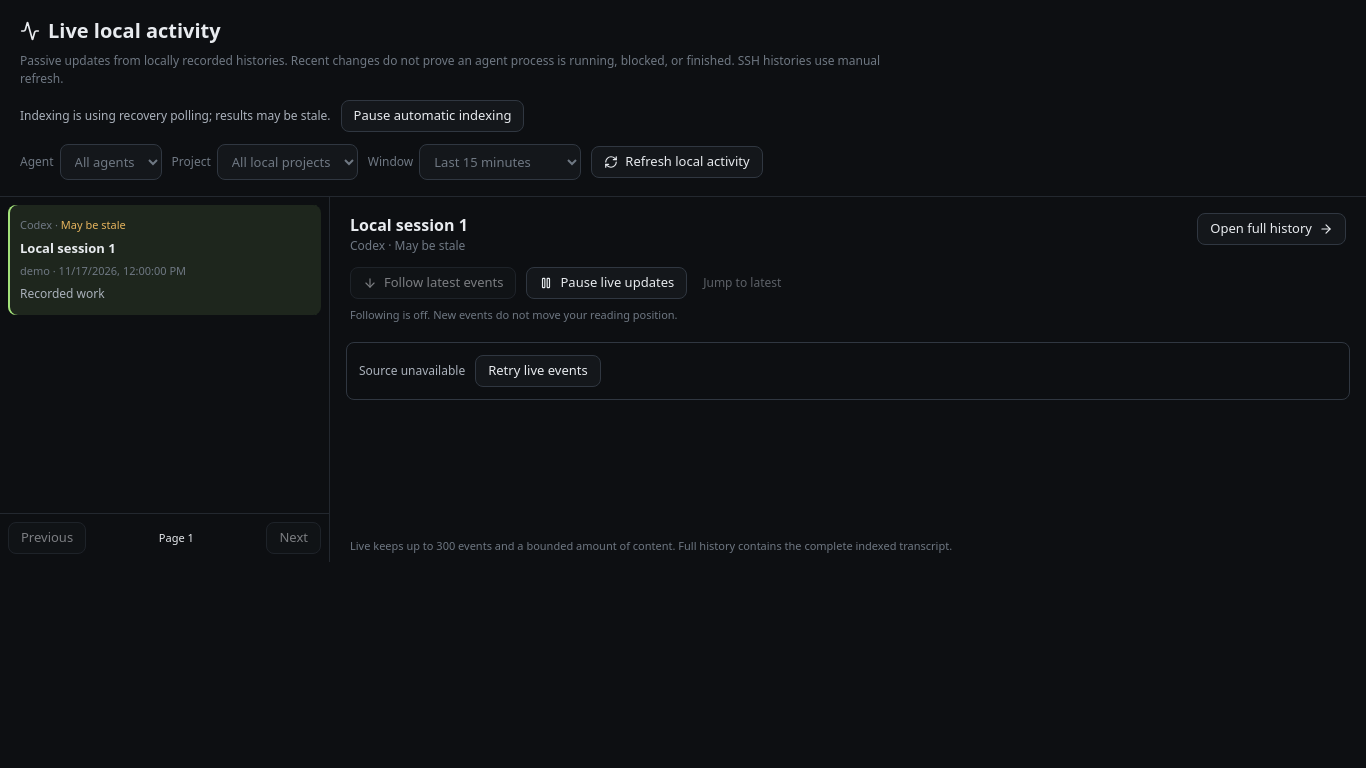
Scenario: stale health, empty activity, unavailable sources and deletion have explicit recoverable states
Check: the text "Indexing is using recovery polling; results may be stale." is shown, box [20,107,331,125]
Check: the text "May be stale" is shown, box [61,217,126,232]
Click the button "Retry live events".
click(538, 370)  # box [475,354,601,386]
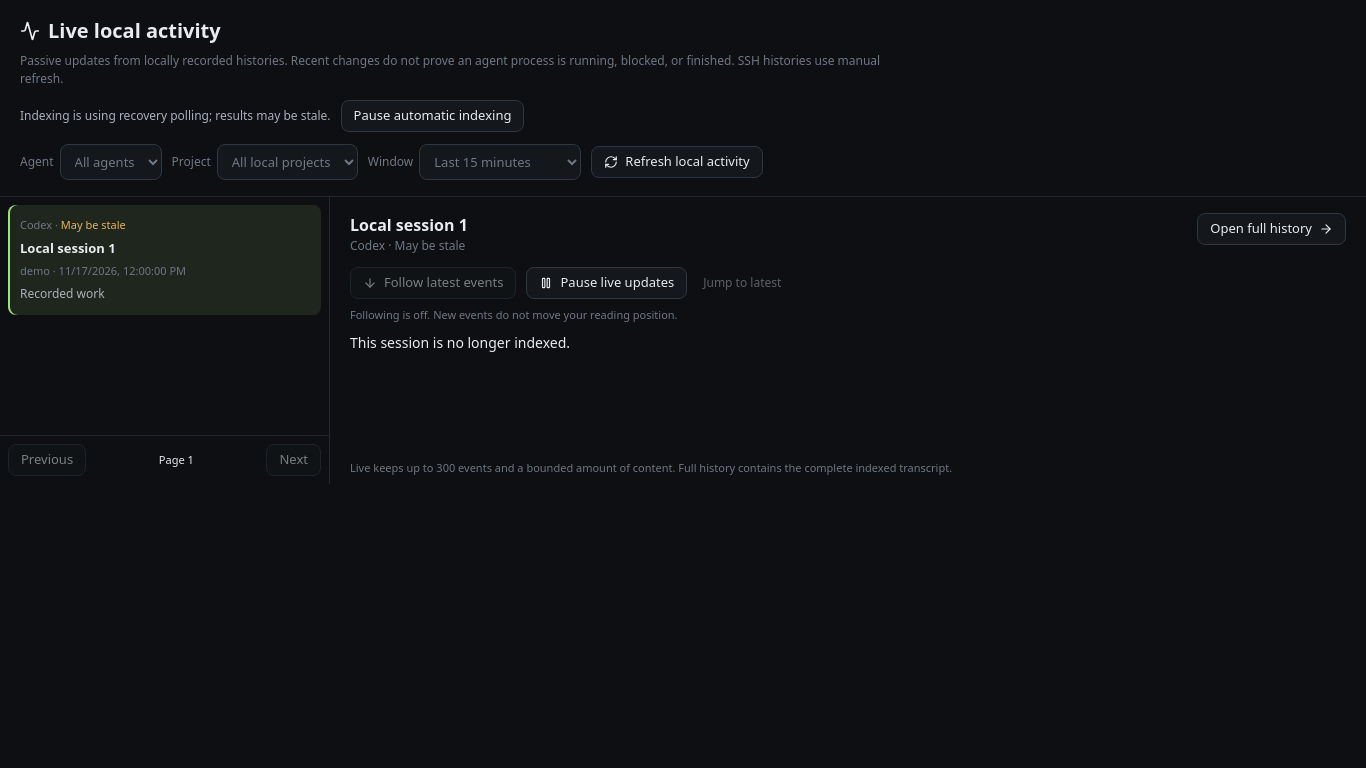
Check: the text "This session is no longer indexed." is shown, box [350,332,570,352]
Select "All recorded activity" in the dropdown named "Live time window" at (500, 162), box [419,144,581,180]
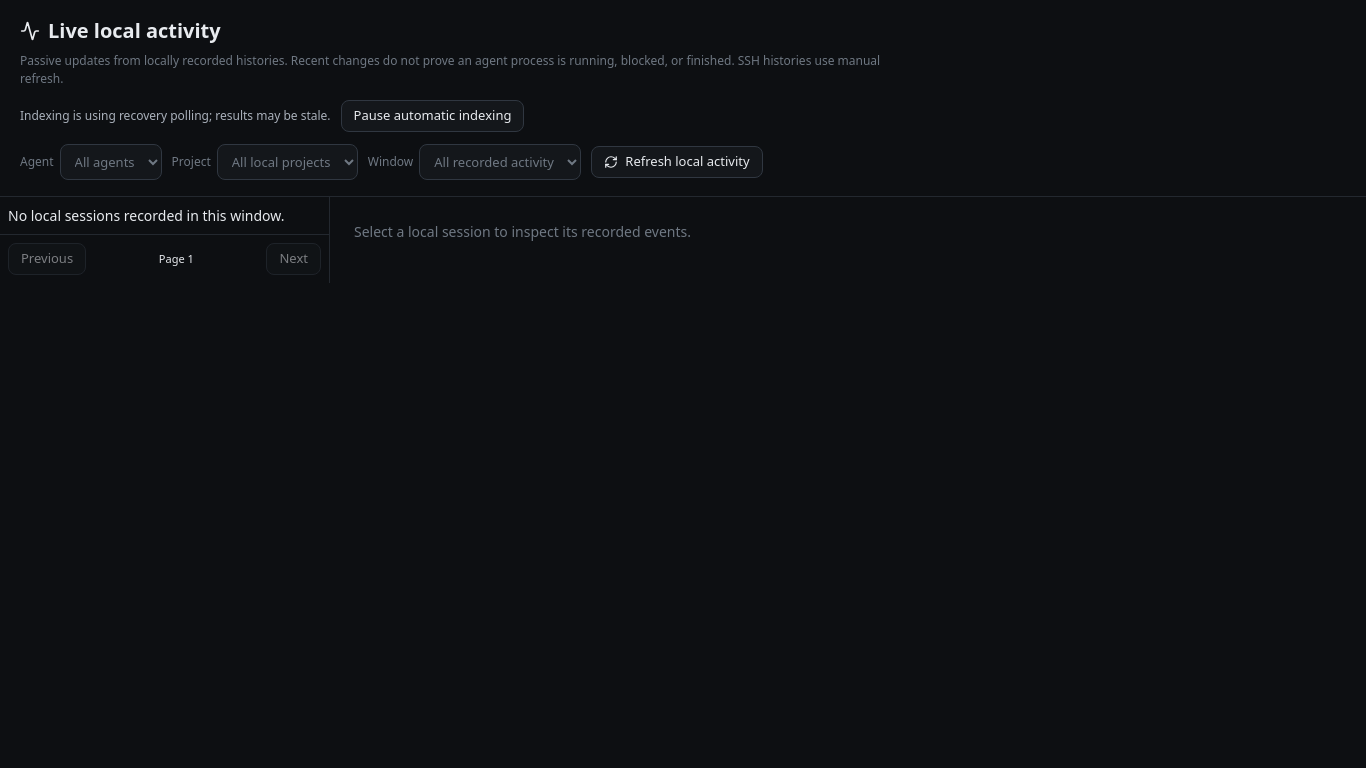
Check: the text "No local sessions recorded in this window." is shown, box [8,205,321,226]
Check: the text "Select a local session to inspect its recorded events." is shown, box [354,222,691,241]
